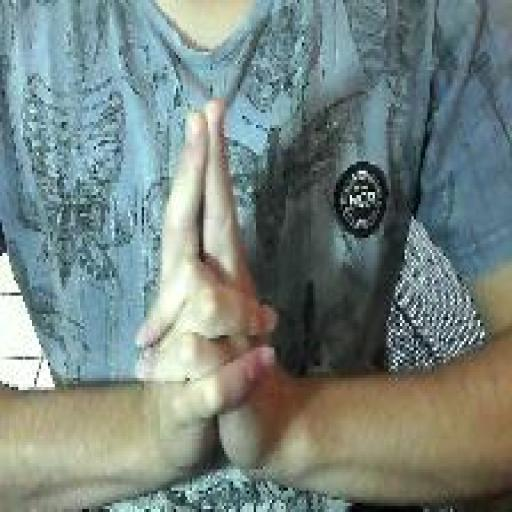Tora -tiger-: (131, 94, 280, 500)
